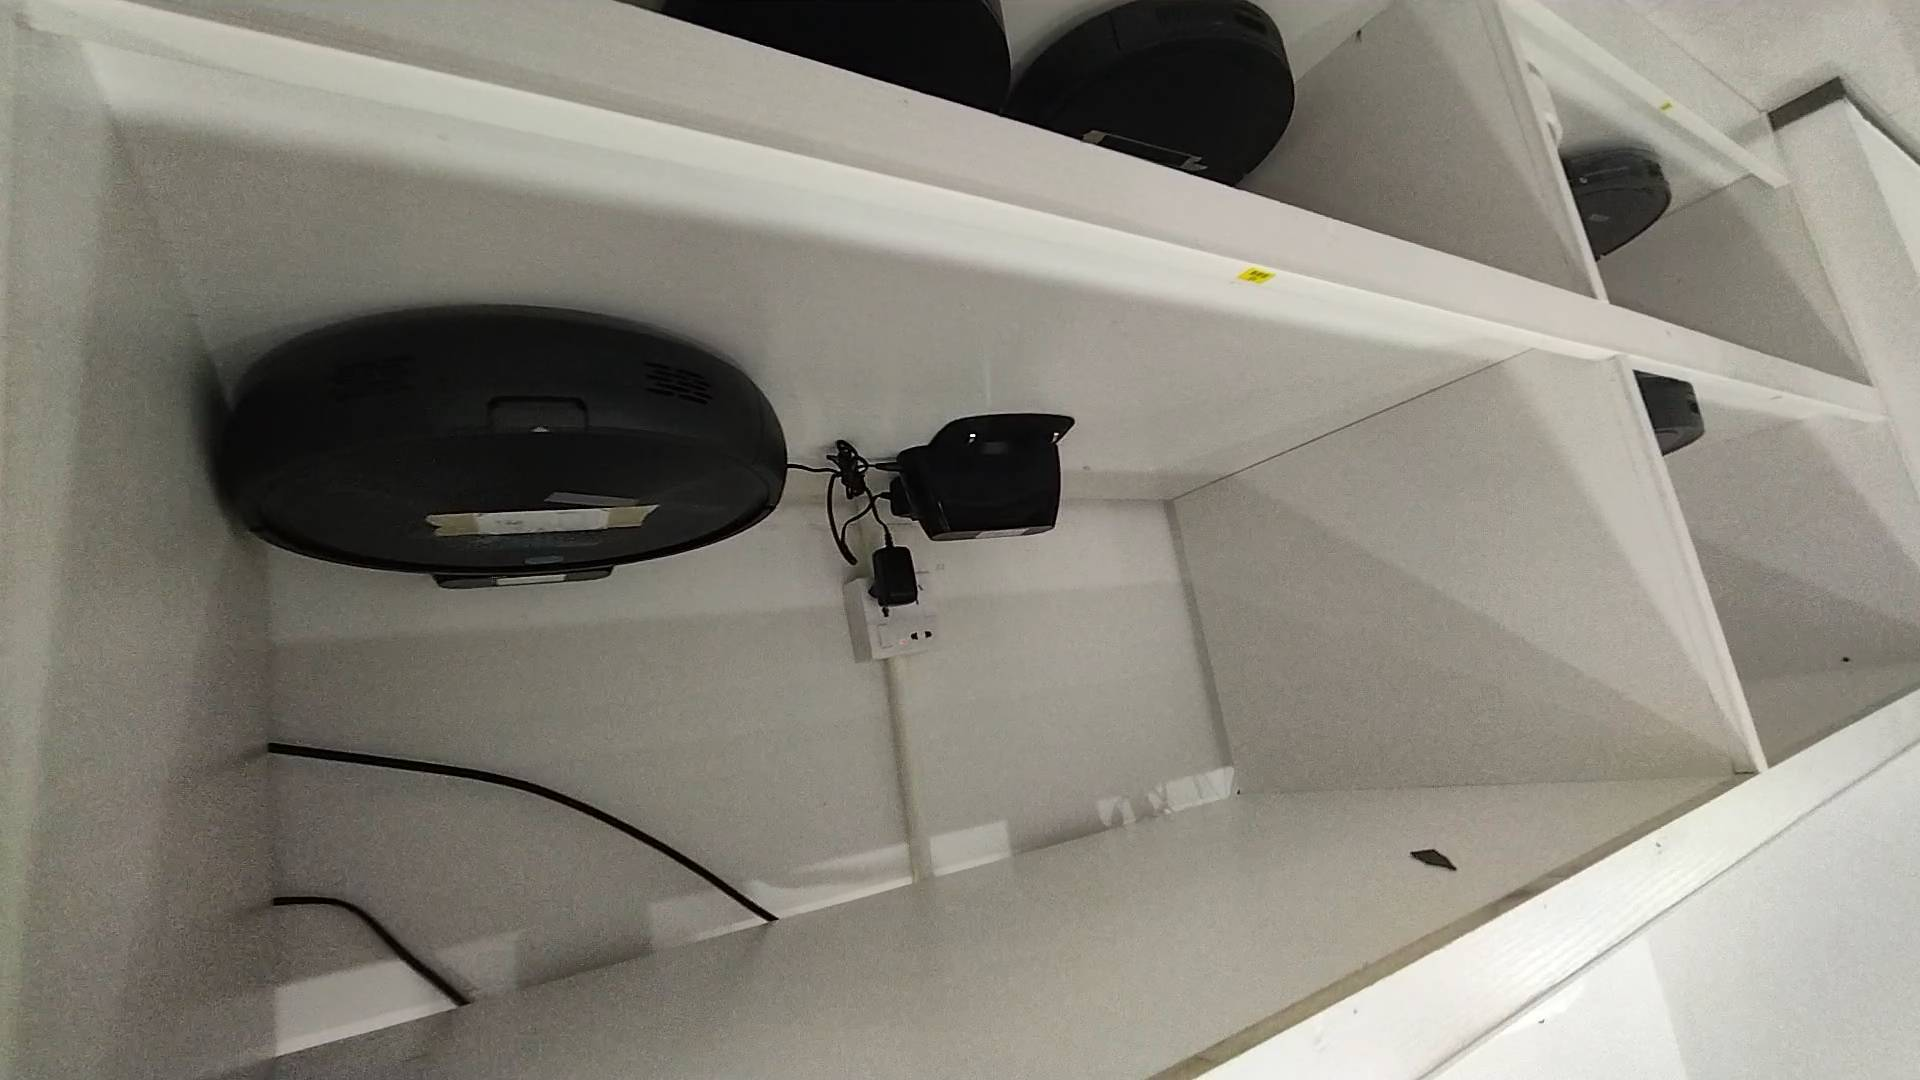recharge seat: (902, 414, 1081, 541)
